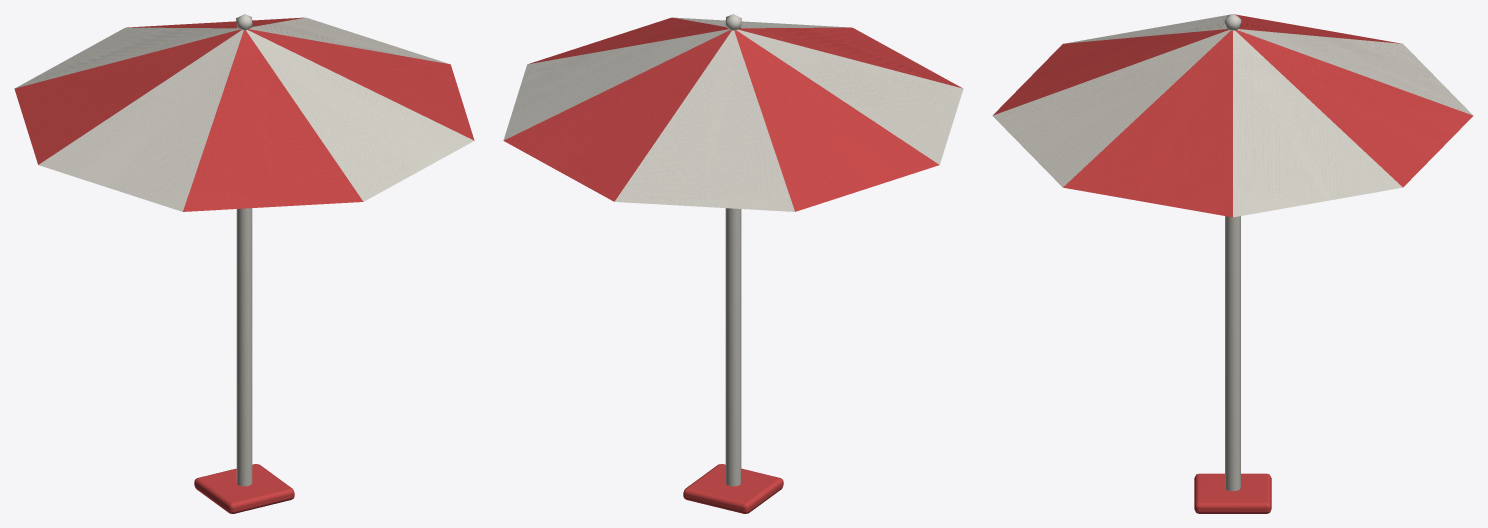
File: furn_dp_umbrella.glb
The picture shows the model from 3 angles, left to right: view 1: azimuth 30°, elevation 25°; view 2: azimuth 150°, elevation 25°; view 3: azimuth 270°, elevation 25°; orthographic projection.
Parts seen in each view (by area): view 1: furn_dp_umbrella_main; view 2: furn_dp_umbrella_main; view 3: furn_dp_umbrella_main.
Part boxes in pixels (bbox=[...]): furn_dp_umbrella_main: bbox=[14, 14, 474, 513]; furn_dp_umbrella_main: bbox=[503, 14, 963, 513]; furn_dp_umbrella_main: bbox=[992, 14, 1473, 513].
Bounding box in the file's own units: 1.5 × 1.67 × 1.5.
